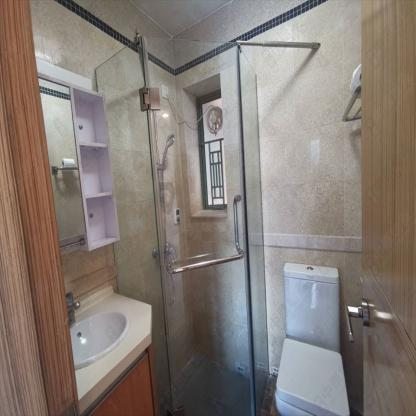Exhaust Fan: (207, 107, 221, 132)
Faucet: (67, 286, 84, 325)
Toilet: (275, 261, 351, 415)
Toilet Sink: (69, 309, 128, 369)
Water Cubicle: (92, 33, 268, 415)
